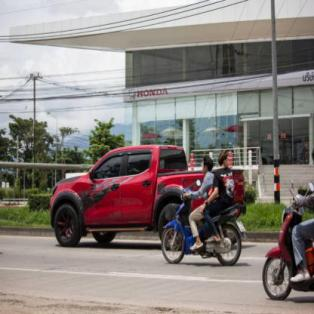Motocicleta: (158, 177, 247, 267), (259, 181, 313, 301)
